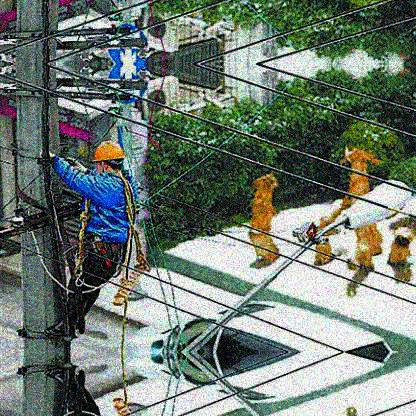helmet: (91, 141, 126, 173)
